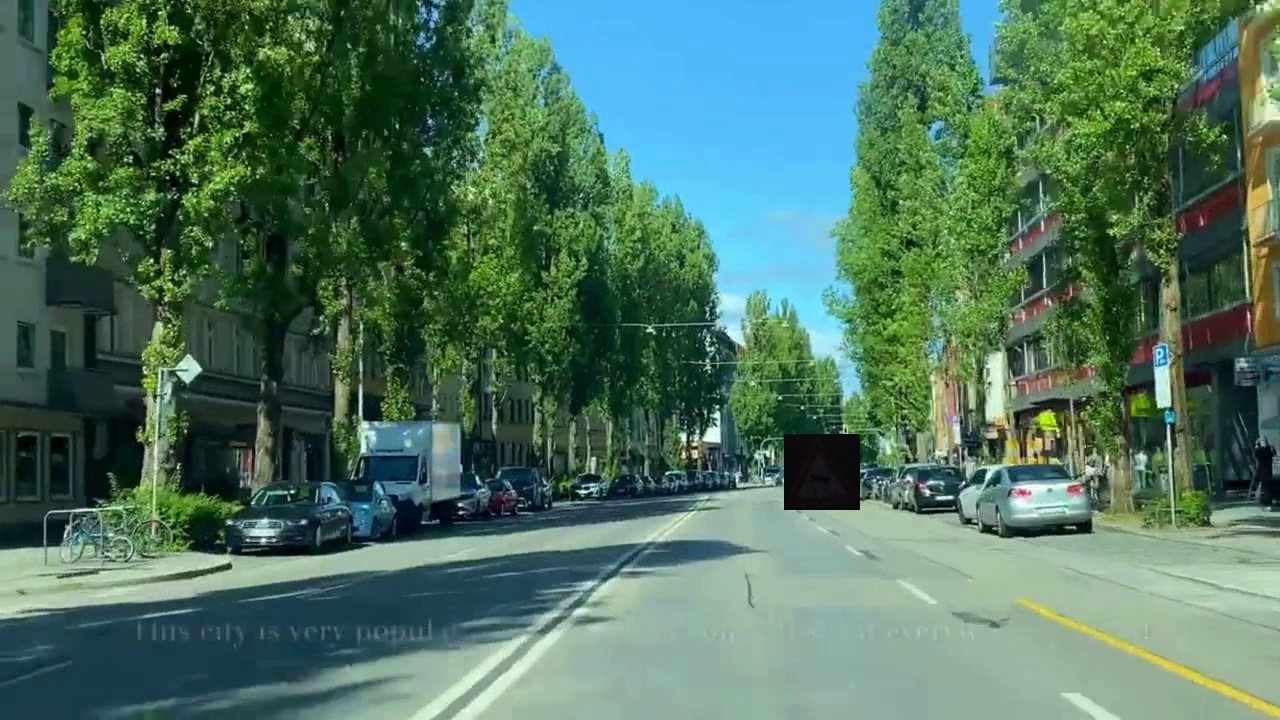Slippery: (784, 434, 860, 510)
